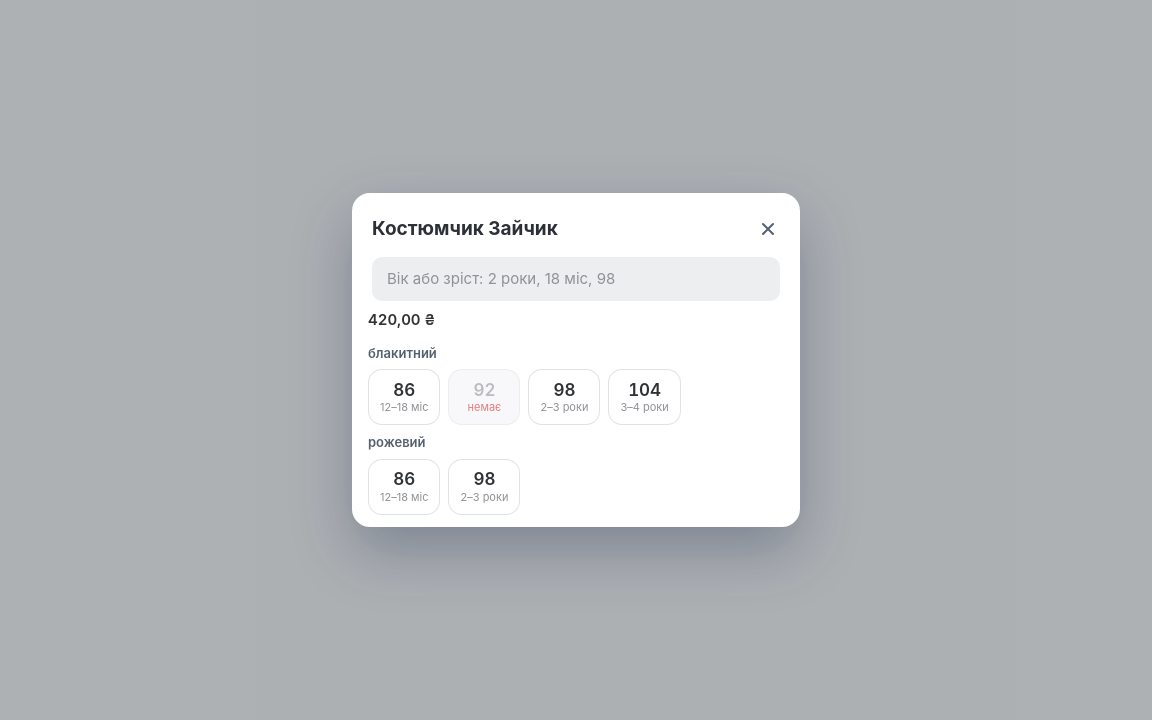
Test case: VariantPicker — «Вік або зріст дитини» › says there is no such size past the largest one
The width and height of the screenshot is (1152, 720).
In the field named "Вік або зріст дитини": (576,279) left=372, top=257, right=780, bottom=301, type "170"
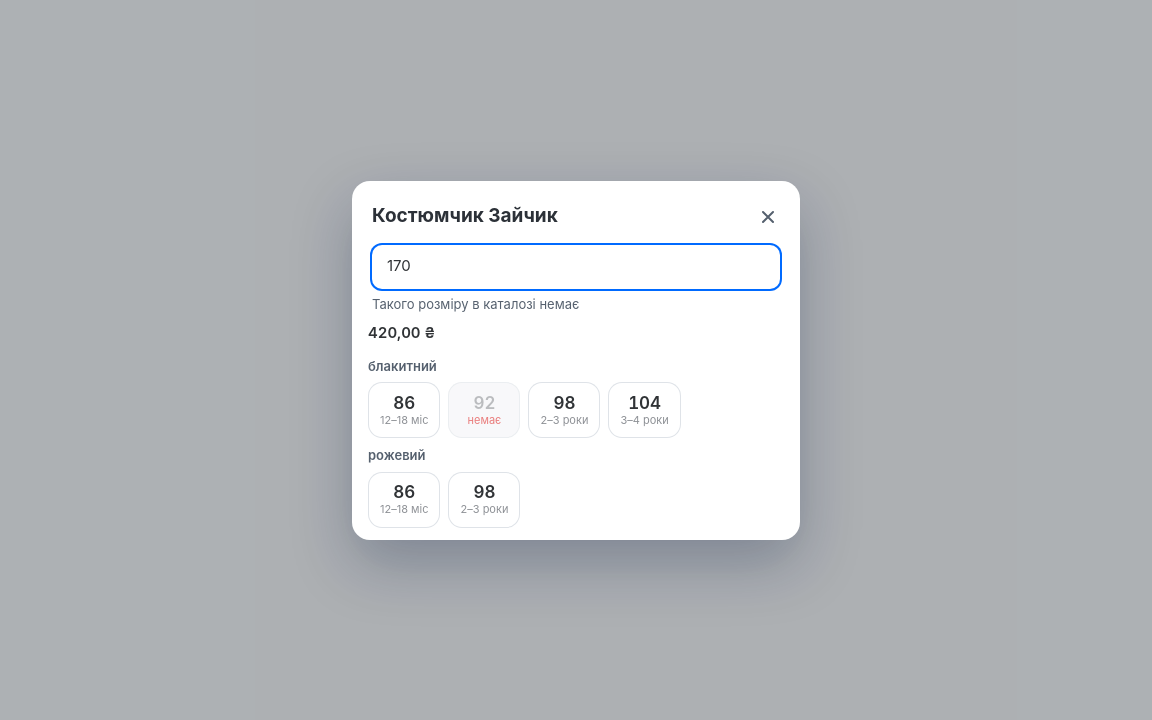
Now the message with test id "size-finder-status" reads "Такого розміру в каталозі немає", box left=372, top=296, right=579, bottom=312
